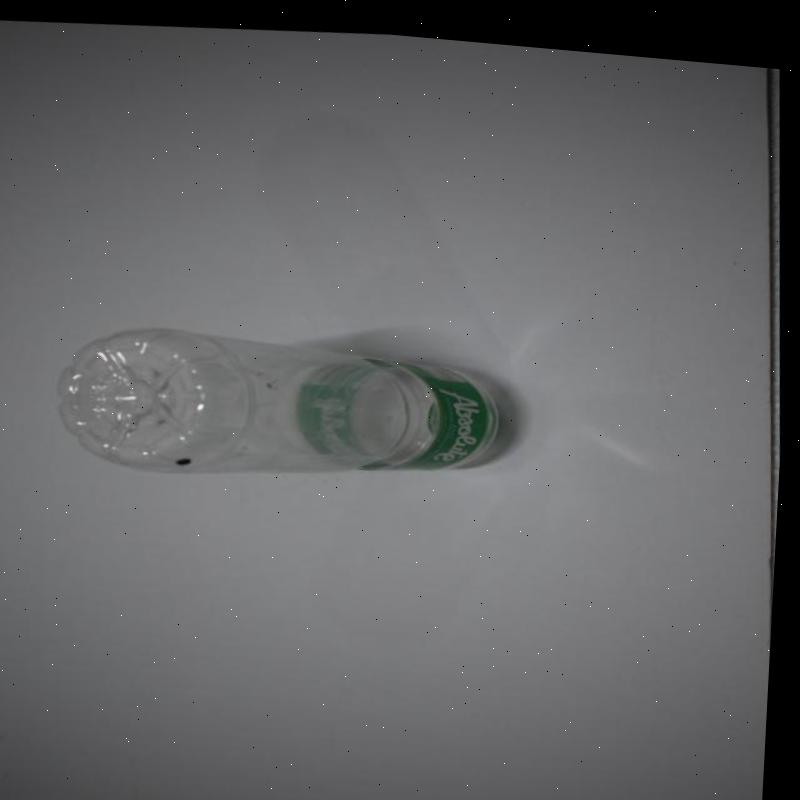botella: (53, 301, 511, 497)
